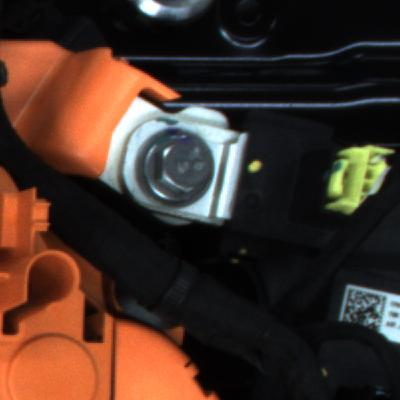nut_b: (137, 126, 219, 207)
